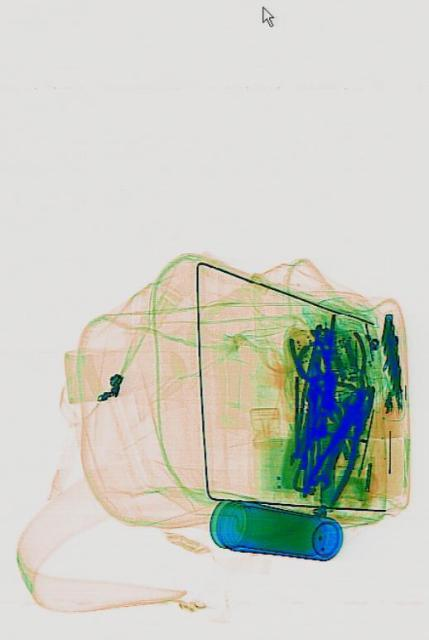Pliers: (297, 372, 387, 516), (316, 324, 385, 421)
